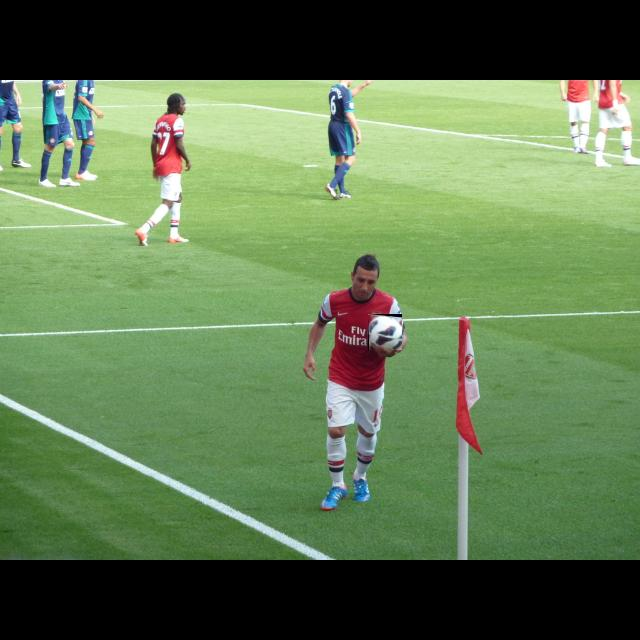Football: (368, 314, 402, 350)
